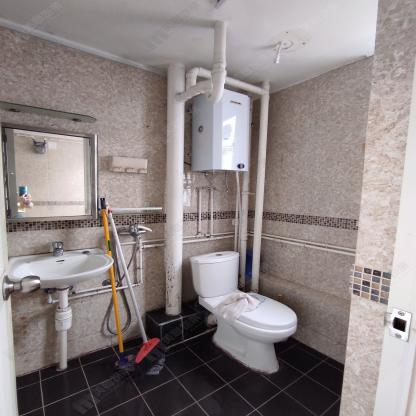Toilet Sink: (8, 247, 114, 288)
Water Heater: (191, 88, 249, 173)
